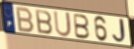6: (93, 15, 108, 43)
B: (15, 6, 35, 34), (34, 8, 54, 35), (73, 13, 91, 40)
J: (112, 18, 129, 44)
U: (53, 10, 73, 39)
